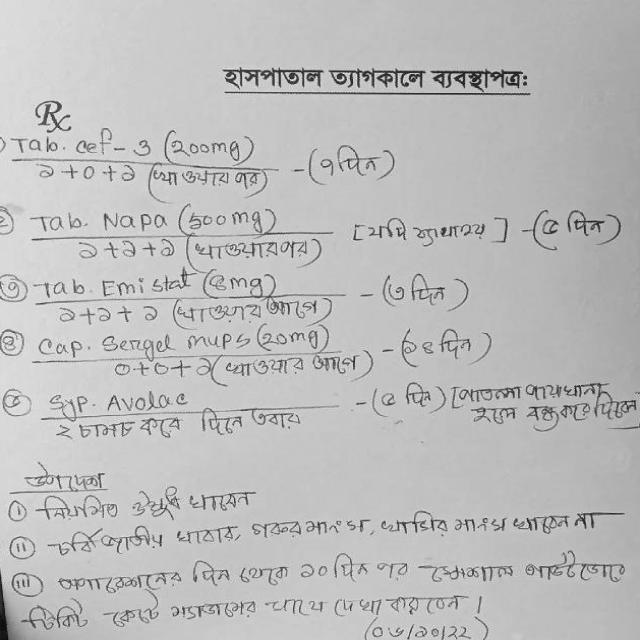medicine: (93, 328, 261, 359), (65, 130, 158, 162), (95, 268, 195, 296), (95, 388, 195, 416), (94, 205, 174, 235)
